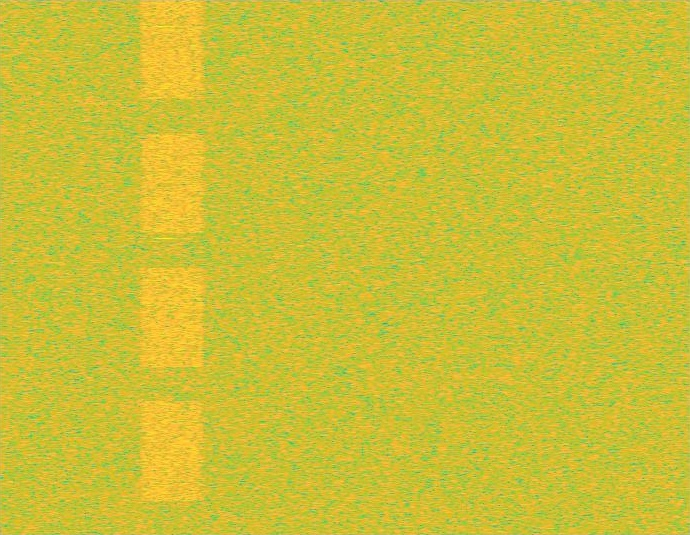5G: (138, 0, 207, 534)
Radar: (158, 0, 172, 534)
